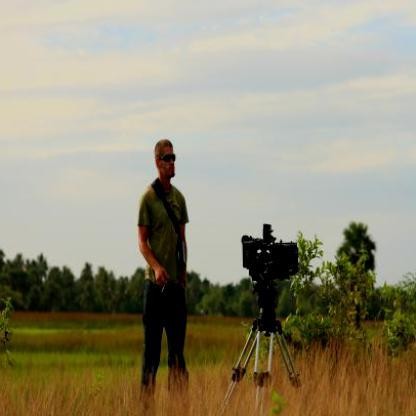cigarette: (160, 282, 166, 294)
person: (137, 134, 194, 410)
